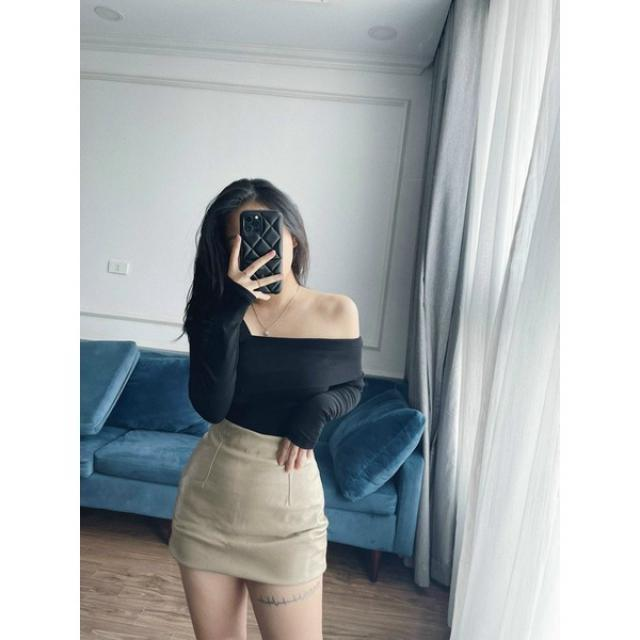long sleeve shirt: (184, 278, 372, 449)
skirt: (164, 419, 335, 589)
